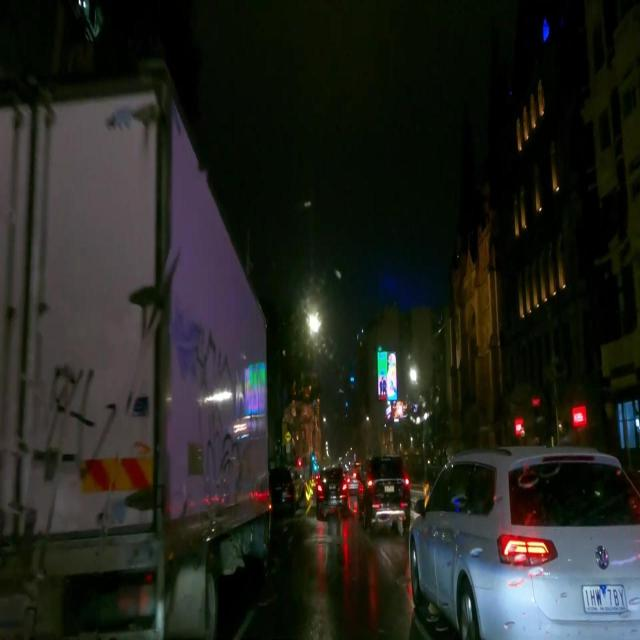Car: (412, 444, 638, 624), (355, 455, 409, 525)
